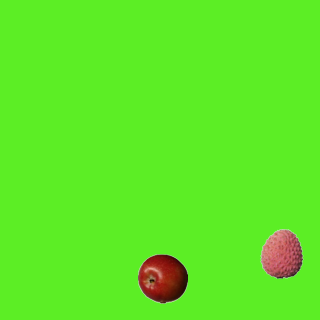Apple Braeburn: (137, 253, 187, 303)
Lychee: (256, 228, 306, 278)
